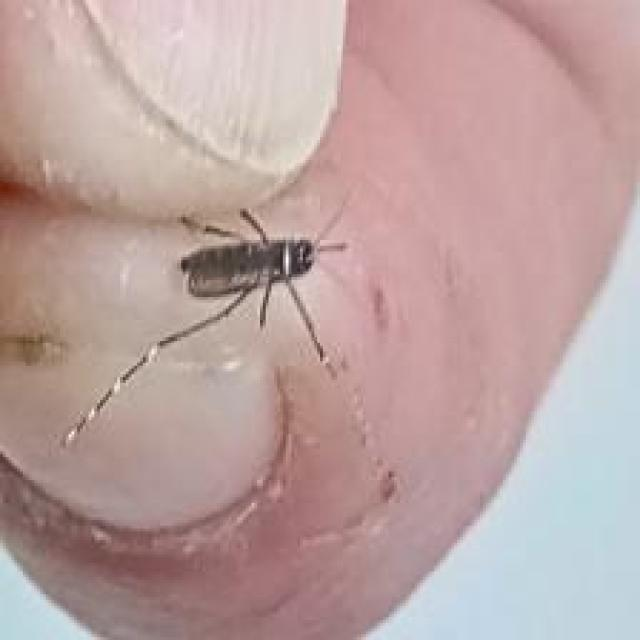Aedes albopictus: (58, 197, 353, 449)
